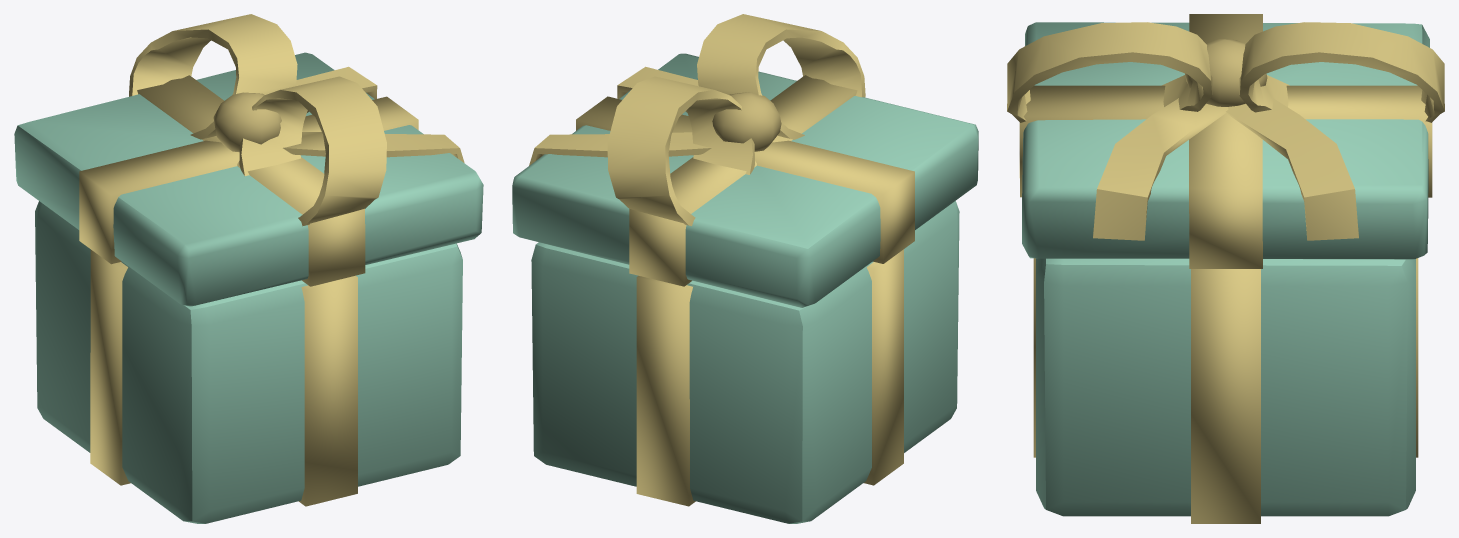
Rendered from W4_GiftBox_A_lod1.fbx.
3 renders of one model, left to right at view 1: azimuth 30°, elevation 25°; view 2: azimuth 150°, elevation 25°; view 3: azimuth 270°, elevation 25°, orthographic. The views are drawn at different scales.
Parts seen in each view (by area): view 1: W4_GiftBox_A.001; view 2: W4_GiftBox_A.001; view 3: W4_GiftBox_A.001.
Boxes of the visible parts, <box> form: W4_GiftBox_A.001: <box>14,14,483,523</box>; W4_GiftBox_A.001: <box>512,14,978,523</box>; W4_GiftBox_A.001: <box>1007,14,1444,523</box>.
Size of the model in its own units: 0.2474 by 0.2766 by 0.2533.
